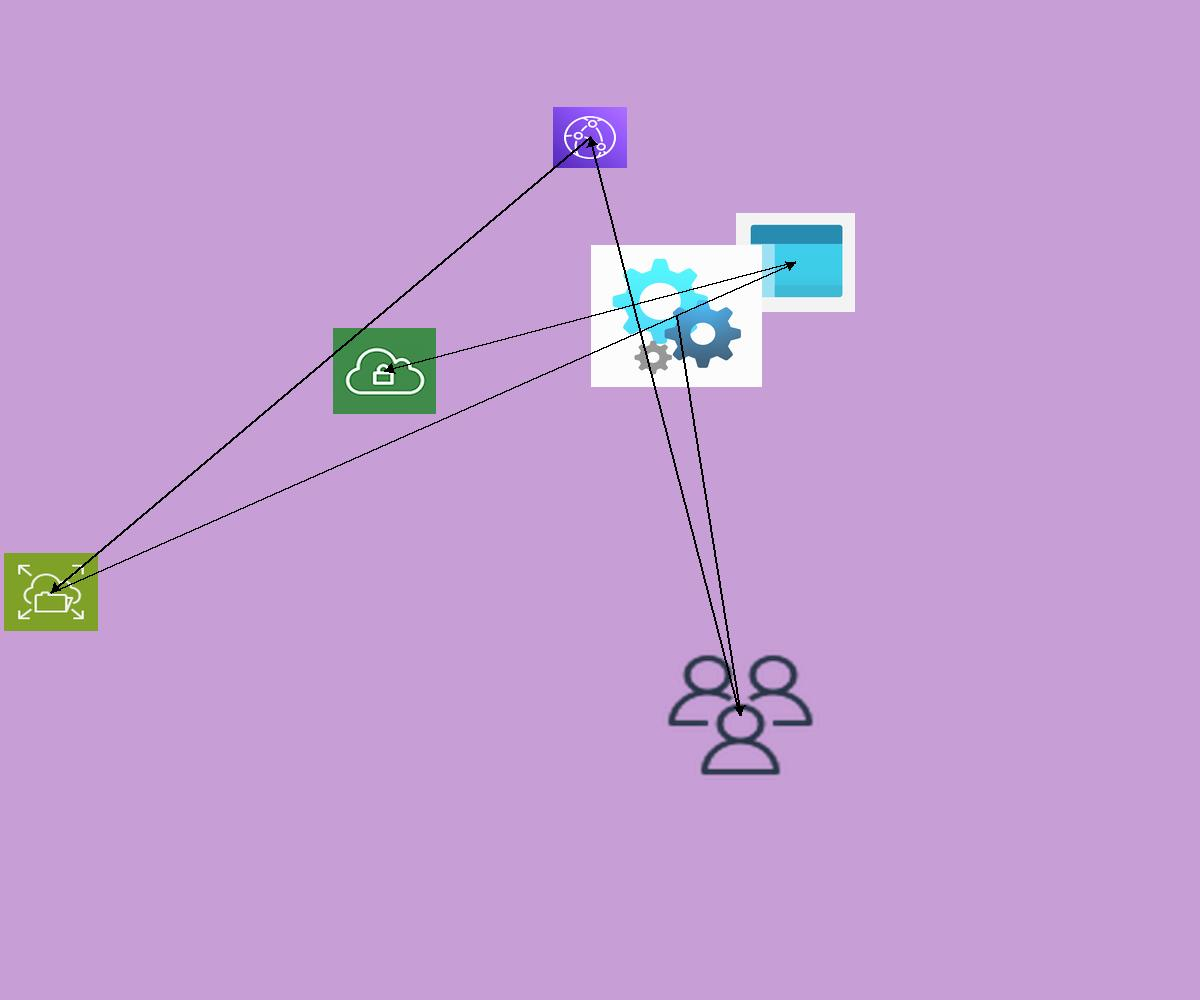AWS-CloudFront: (553, 107, 627, 168)
AWS-EFS: (4, 553, 98, 631)
AWS-Private_vpc: (333, 328, 436, 414)
AWS-Res_Users: (662, 650, 819, 780)
Azure_api: (591, 245, 762, 387)
Azure_management-portal: (736, 213, 855, 312)
